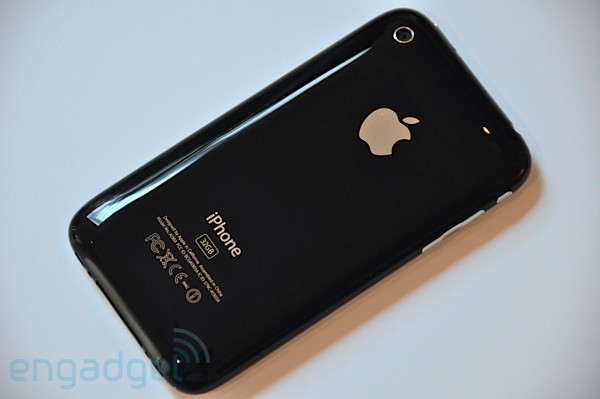apple: (347, 85, 421, 172)
